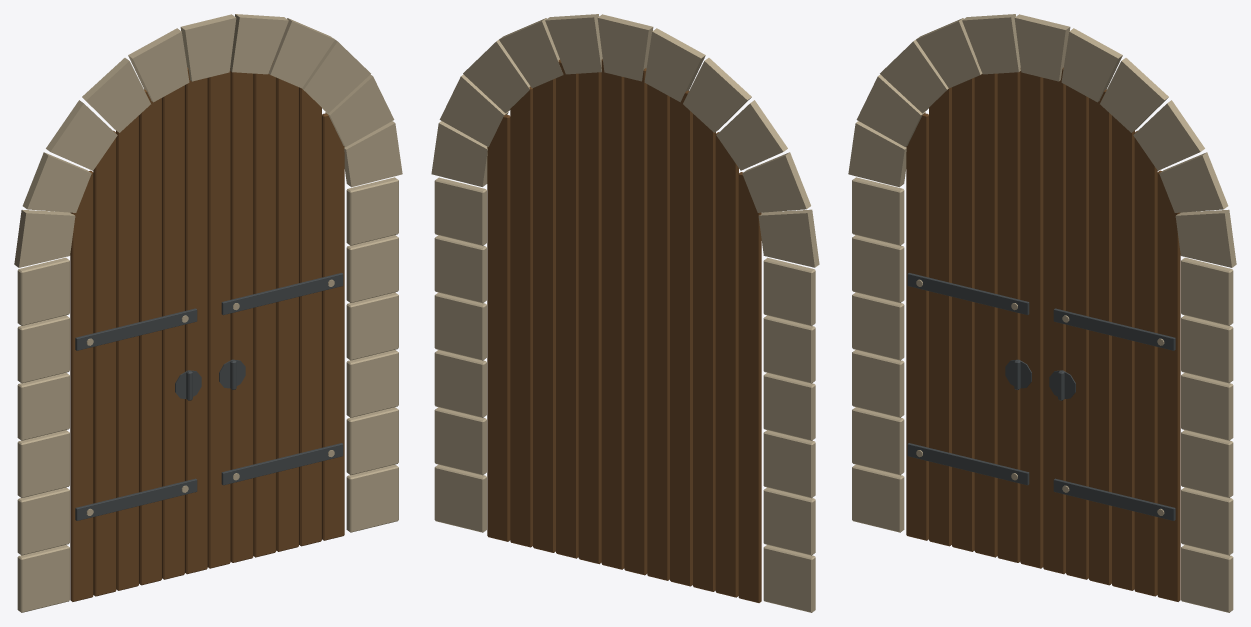
Rendered from fort-gate.glb.
The picture shows the model from 3 angles, left to right: view 1: azimuth 30°, elevation 25°; view 2: azimuth 150°, elevation 25°; view 3: azimuth 330°, elevation 25°; orthographic projection.
Visible parts, largest first — view 1: fort-gate-Aged oak, fort-gate-Honed limestone, fort-gate-Forged iron; view 2: fort-gate-Aged oak, fort-gate-Honed limestone; view 3: fort-gate-Aged oak, fort-gate-Honed limestone, fort-gate-Forged iron.
Part boxes in pixels (x1,y1,x2,y2): fort-gate-Aged oak: [70, 61, 344, 601]; fort-gate-Honed limestone: [14, 14, 402, 612]; fort-gate-Forged iron: [75, 273, 343, 520]; fort-gate-Aged oak: [487, 59, 761, 602]; fort-gate-Honed limestone: [431, 14, 819, 612]; fort-gate-Aged oak: [906, 61, 1180, 601]; fort-gate-Honed limestone: [848, 14, 1236, 612]; fort-gate-Forged iron: [907, 273, 1175, 520].
Bounding box in the file's own units: 2.1 × 2.86 × 0.064.
